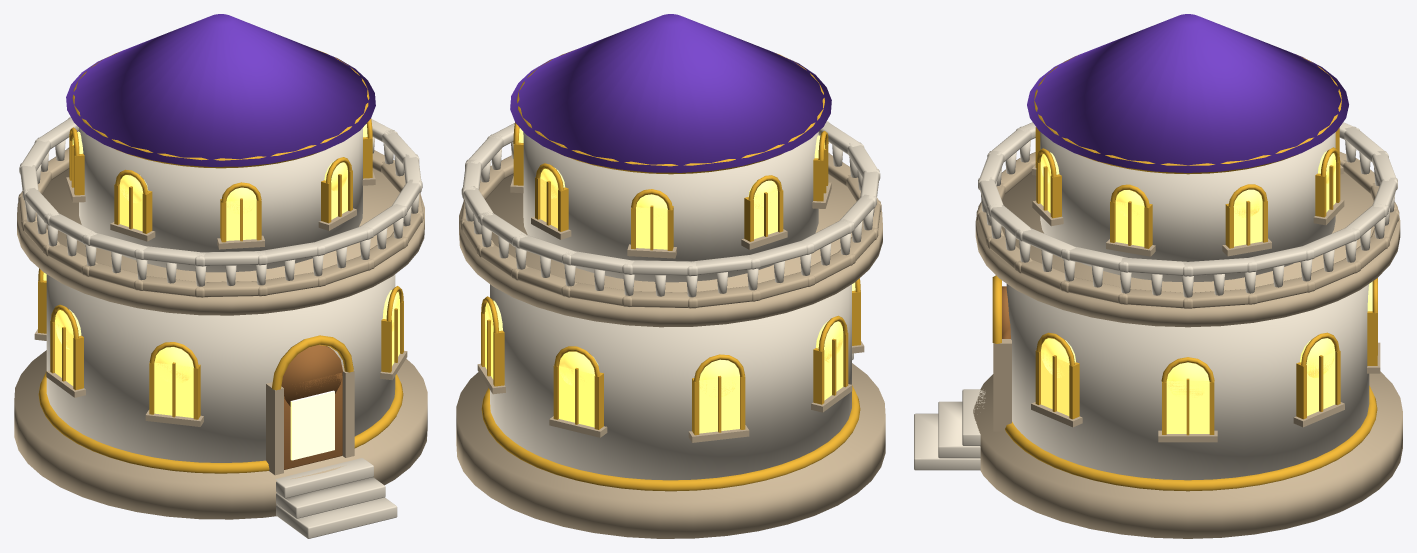
File: observator_3.glb
3 views of the same model, side by side, from view 1: azimuth 30°, elevation 25°; view 2: azimuth 150°, elevation 25°; view 3: azimuth 270°, elevation 25° (orthographic). The views are drawn at different scales.
Parts seen in each view (by area): view 1: Obs.001; view 2: Obs.001; view 3: Obs.001.
Boxes of the visible parts, x1,y1,x2,y2 form: Obs.001: (14, 14, 427, 538); Obs.001: (456, 14, 885, 538); Obs.001: (914, 14, 1402, 538).
Size of the model in its own units: 3.2 by 3.52 by 3.64.
